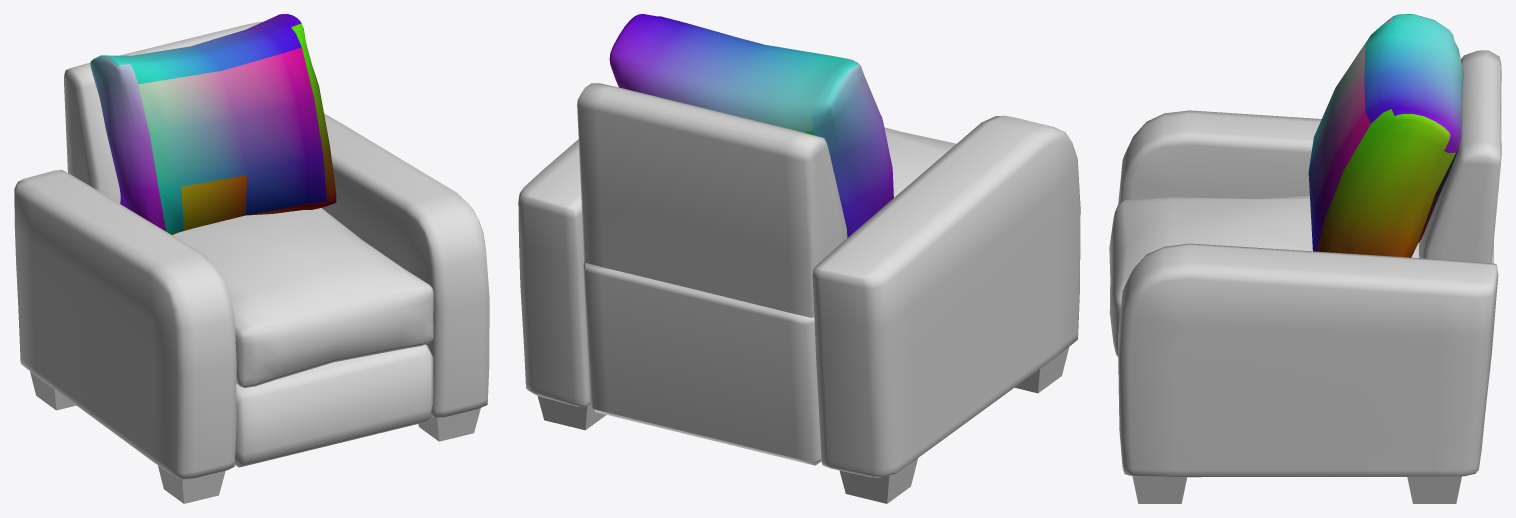
File: RFP_Armchair_2.fbx
3 renders of one model, left to right at view 1: azimuth 30°, elevation 25°; view 2: azimuth 150°, elevation 25°; view 3: azimuth 270°, elevation 25°, orthographic. The views are drawn at different scales.
Visible parts, largest first — view 1: RFP_Armchair_2; view 2: RFP_Armchair_2; view 3: RFP_Armchair_2.
Boxes of the visible parts, bbox=[...] form: RFP_Armchair_2: bbox=[14, 14, 489, 503]; RFP_Armchair_2: bbox=[518, 14, 1080, 503]; RFP_Armchair_2: bbox=[1109, 14, 1501, 503].
Size of the model in its own units: 38.06 by 39.37 by 38.22.
